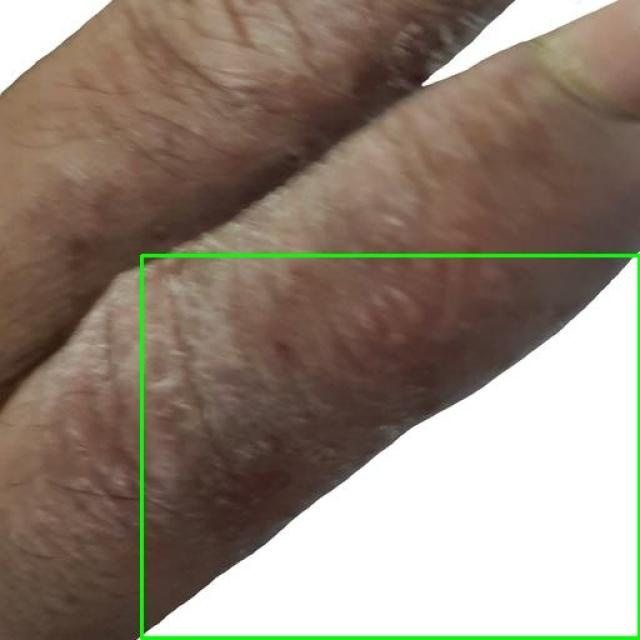Contact Dermatitis: (141, 255, 639, 639)
